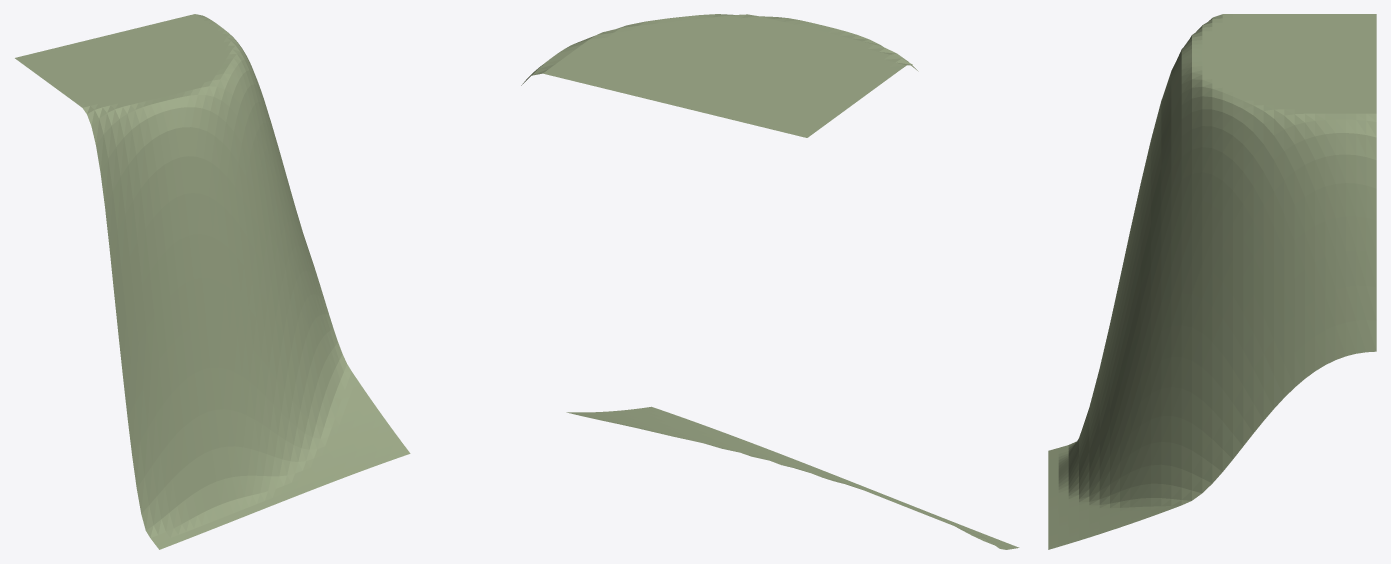
Rendered from alpine-13-12.glb.
3 views of the same model, side by side, from view 1: azimuth 30°, elevation 25°; view 2: azimuth 150°, elevation 25°; view 3: azimuth 270°, elevation 25° (orthographic). The views are drawn at different scales.
Parts seen in each view (by area): view 1: alpine-13-12; view 2: alpine-13-12; view 3: alpine-13-12.
Part boxes in pixels (bbox=[...]): alpine-13-12: bbox=[15, 14, 410, 549]; alpine-13-12: bbox=[521, 14, 1019, 549]; alpine-13-12: bbox=[1048, 14, 1376, 549].
Size of the model in its own units: 256 by 376 by 256.
